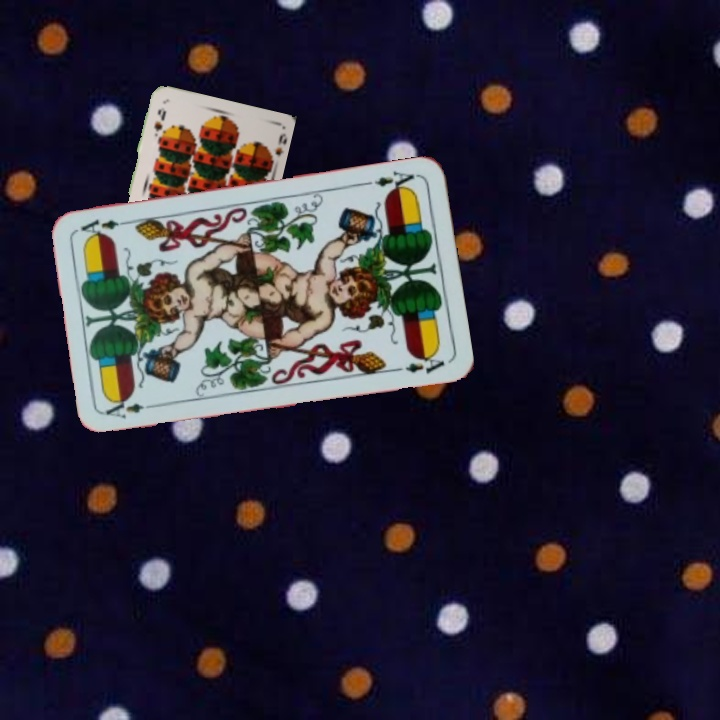EA: (102, 396, 161, 422), (371, 167, 419, 196)
S9: (150, 103, 169, 134)
